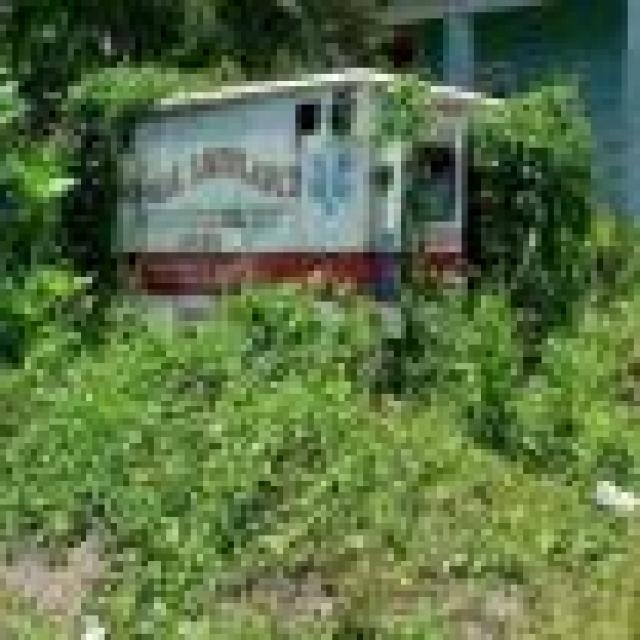emergency-vehicle: (95, 68, 557, 406)
